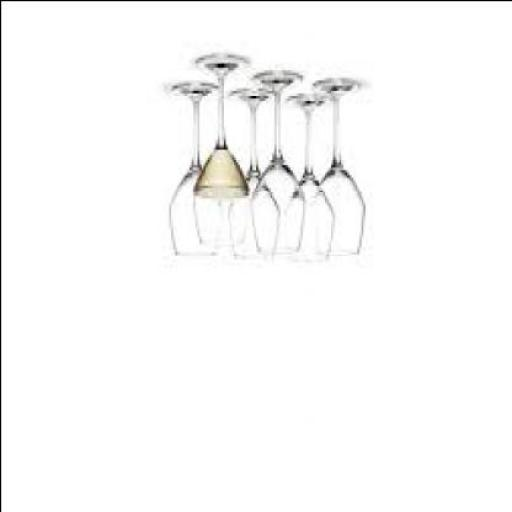glass: (190, 59, 246, 246), (310, 79, 362, 256), (166, 87, 218, 259), (251, 72, 298, 258), (283, 98, 330, 264), (225, 92, 269, 262)
